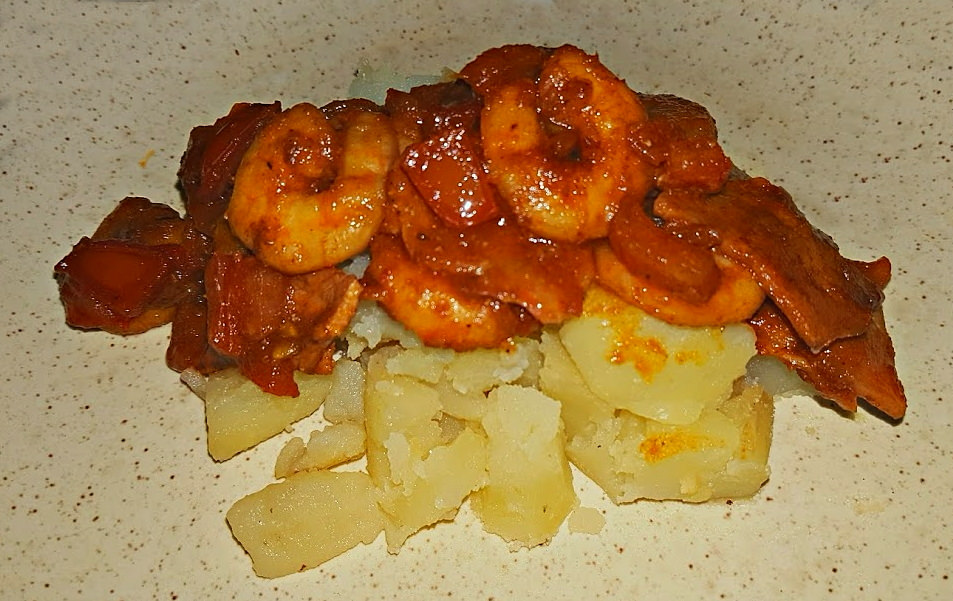boiled potatoes: (369, 366, 779, 515)
